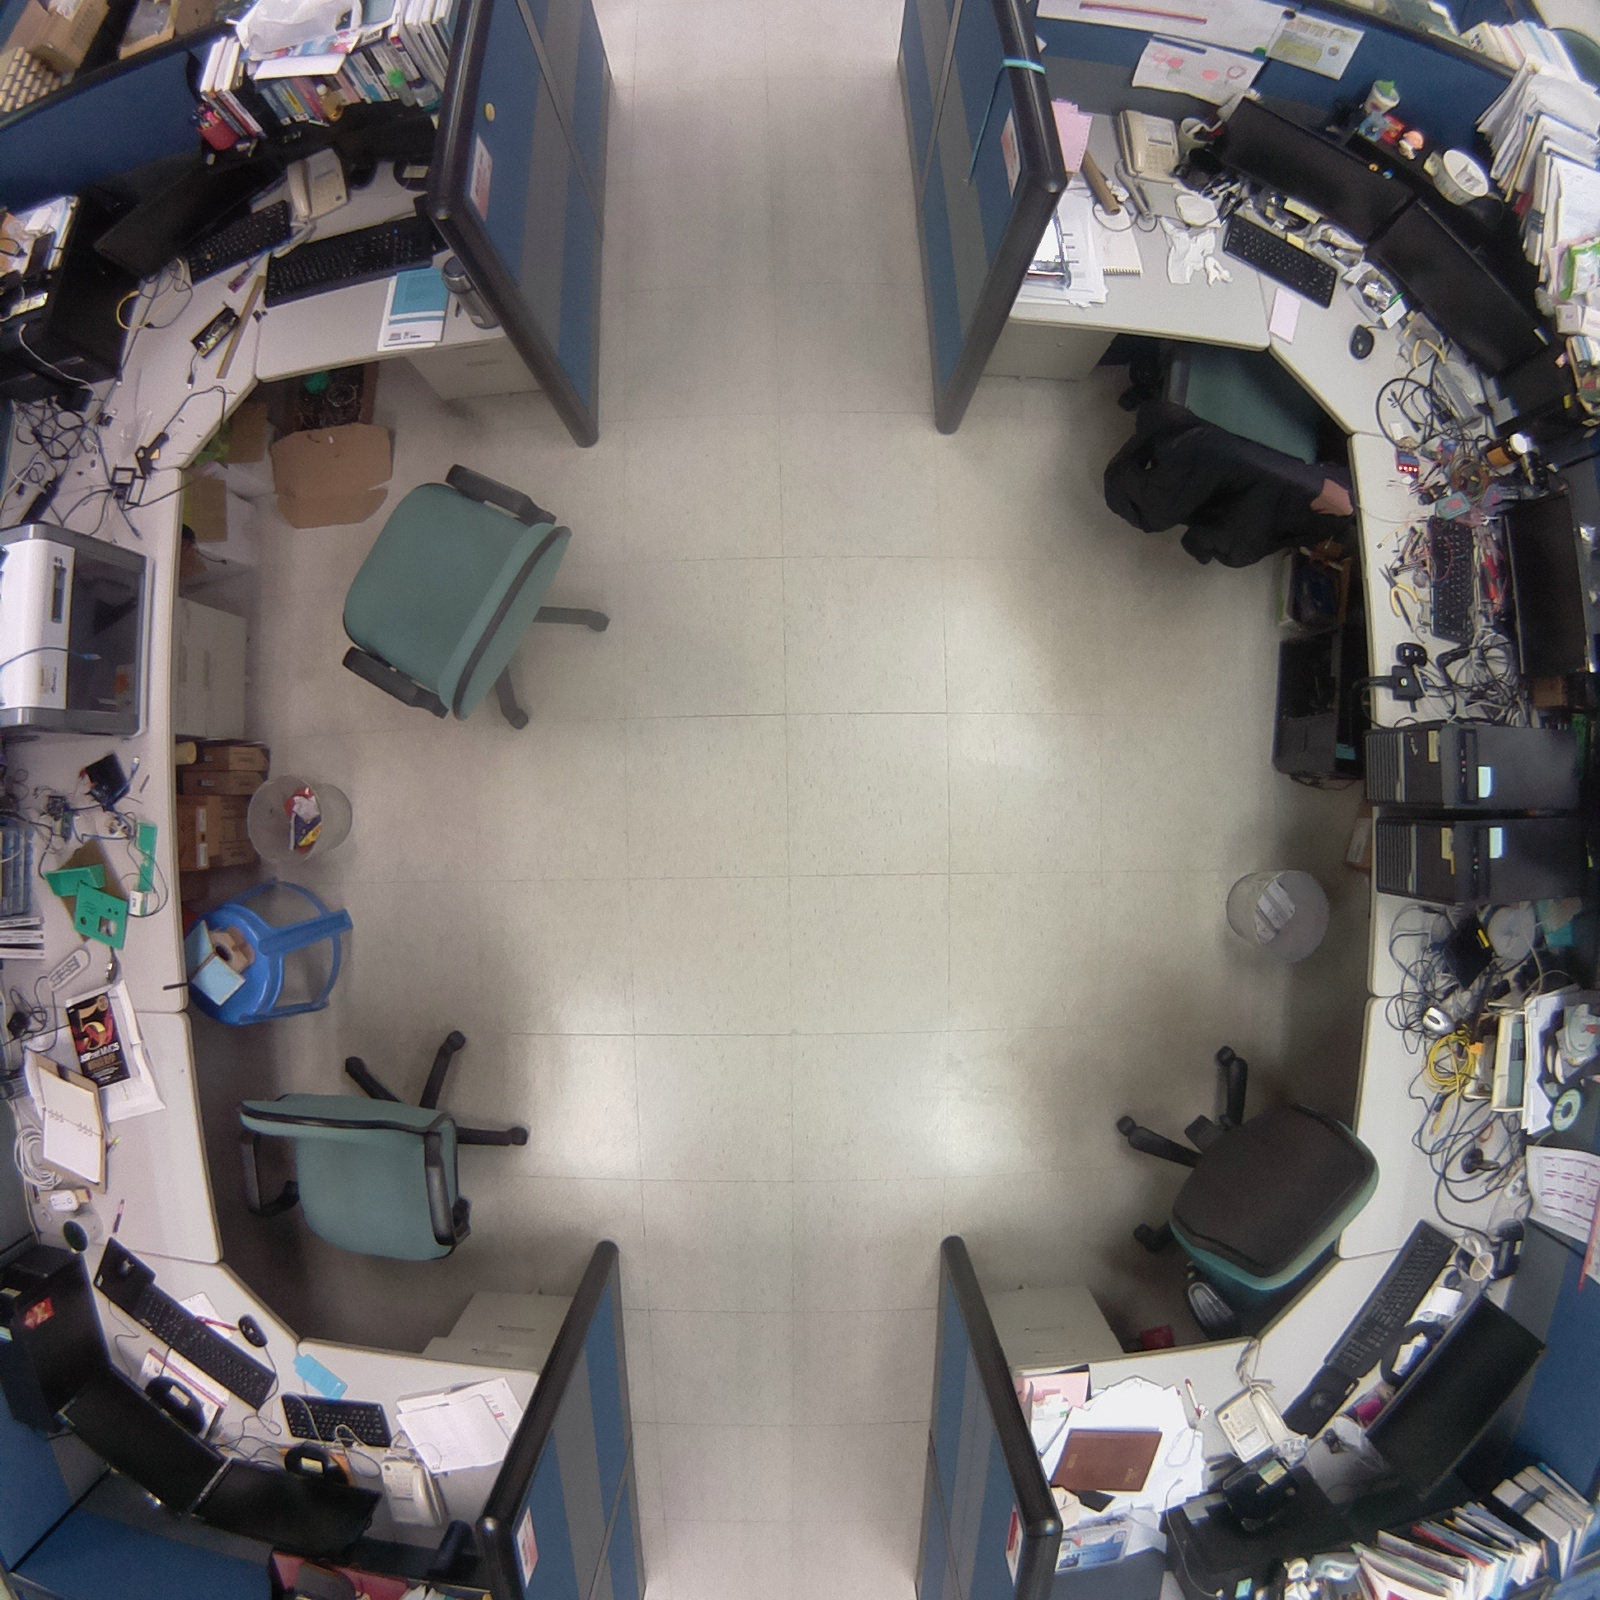chair: (311, 451, 643, 766), (1077, 1029, 1393, 1355), (221, 1015, 548, 1282), (1081, 315, 1371, 588)
